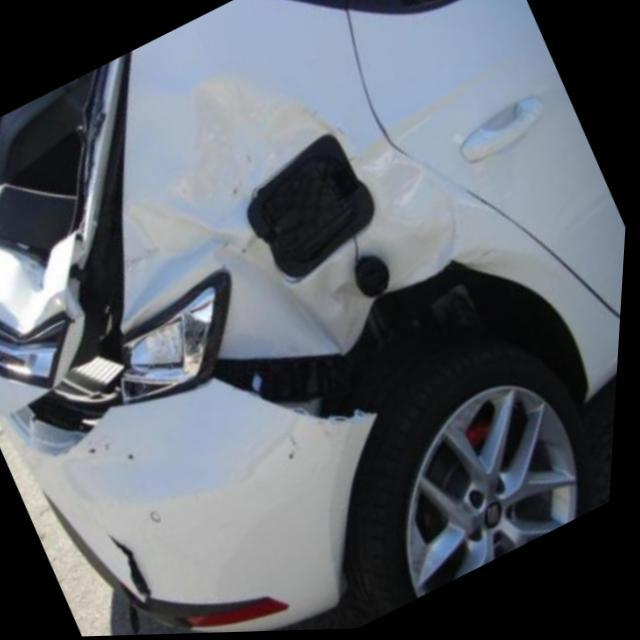crack: (115, 531, 163, 601)
dent: (123, 71, 535, 361), (0, 185, 100, 410)
glass shatter: (0, 55, 125, 201)
